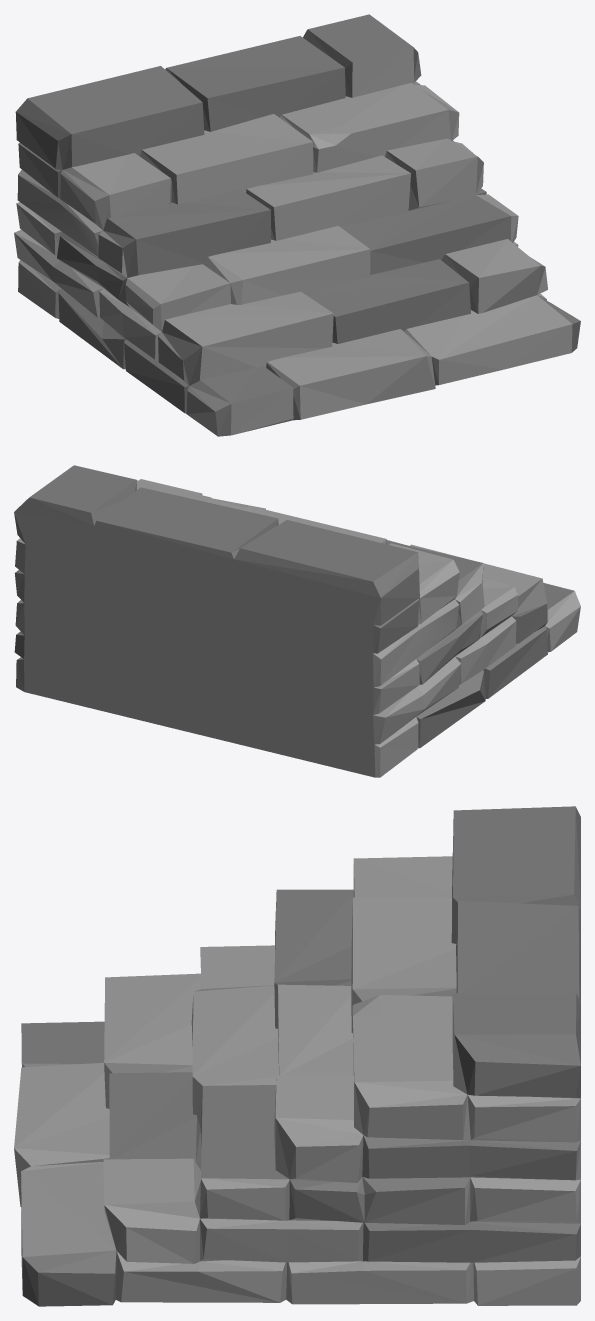
File: _STAIRS_01_1.glb
3 views of the same model, one above another, from view 1: azimuth 30°, elevation 25°; view 2: azimuth 150°, elevation 25°; view 3: azimuth 270°, elevation 25° (orthographic). The views are drawn at different scales.
Visible parts, largest first — view 1: STAIRS_01_1; view 2: STAIRS_01_1; view 3: STAIRS_01_1.
Boxes of the visible parts, left/top/right/bottom form: STAIRS_01_1: left=14, top=14, right=580, bottom=436; STAIRS_01_1: left=14, top=465, right=580, bottom=777; STAIRS_01_1: left=14, top=806, right=580, bottom=1306.
Size of the model in its own units: 1.07 by 0.531 by 1.03.
1 material, 1 textured.
